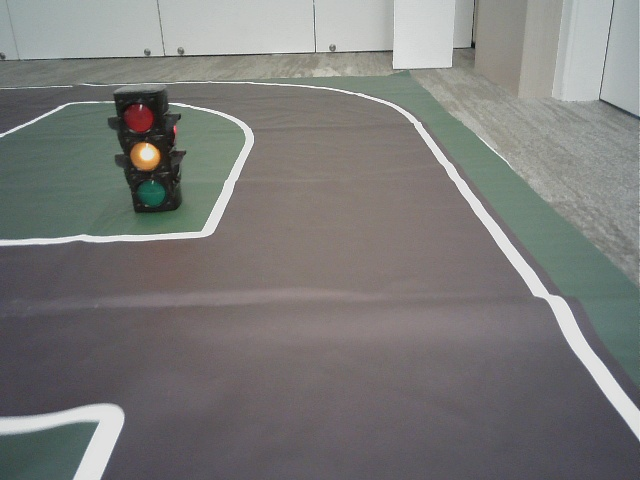yellow: (118, 99, 168, 203)
